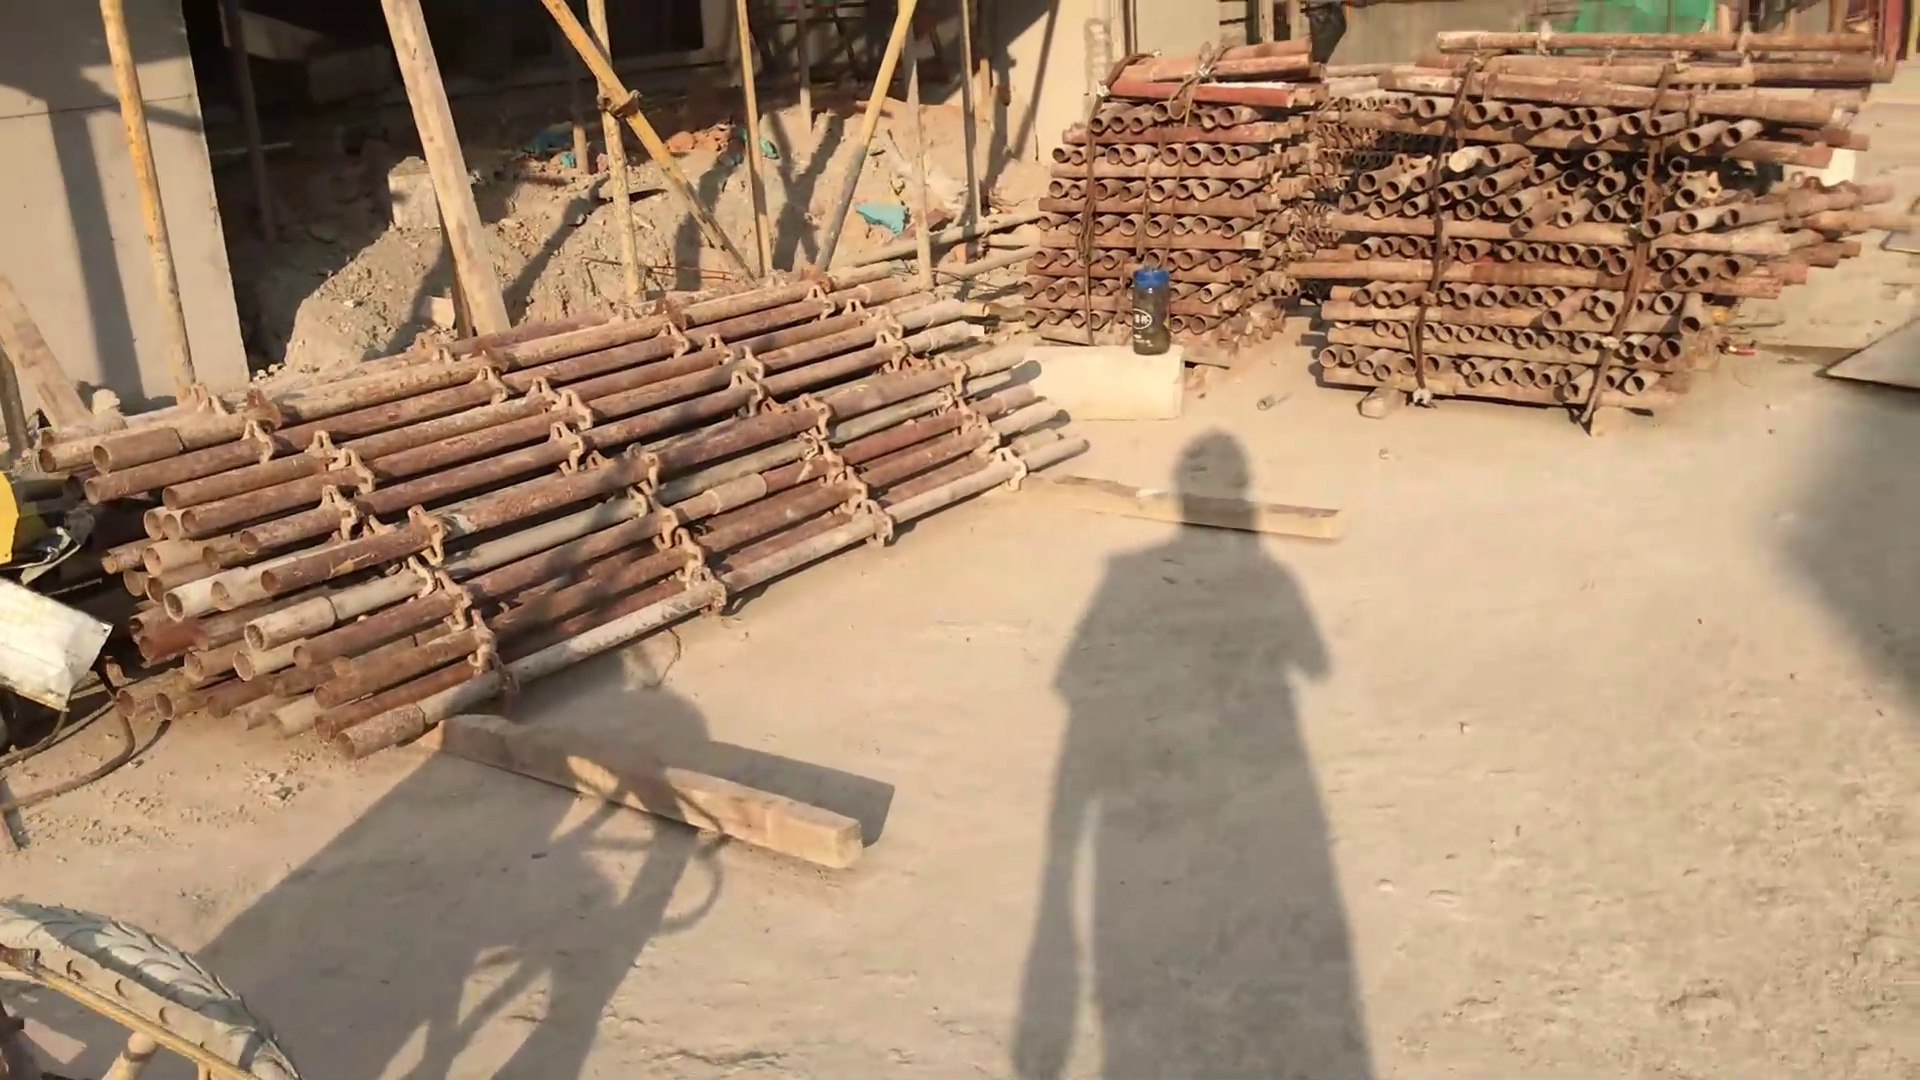scaffold: (53, 273, 1034, 756), (1320, 25, 1896, 389), (1007, 41, 1319, 342)
